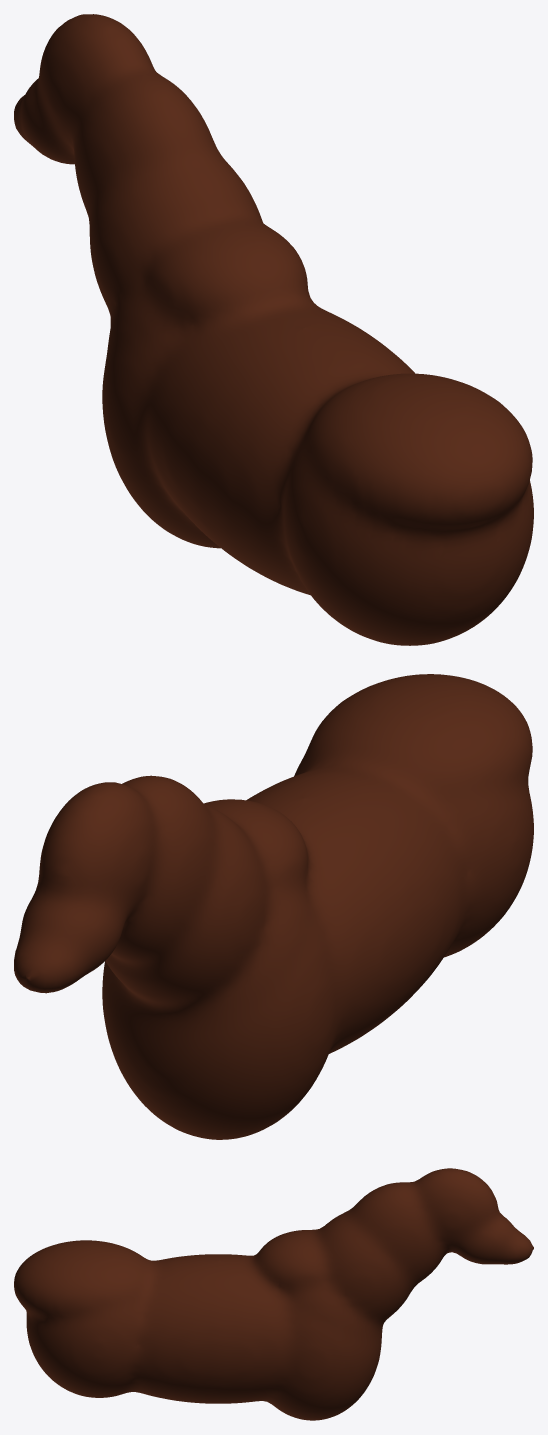
Rendered from village_horse_body.glb.
3 renders of one model, top to bottom at view 1: azimuth 30°, elevation 25°; view 2: azimuth 150°, elevation 25°; view 3: azimuth 270°, elevation 25°, orthographic. The views are drawn at different scales.
Visible parts, largest first — view 1: BayHorseBody; view 2: BayHorseBody; view 3: BayHorseBody.
Part boxes in pixels (x1,y1,x2,y2): BayHorseBody: (14, 14, 533, 645); BayHorseBody: (14, 674, 533, 1139); BayHorseBody: (14, 1168, 533, 1420).
Bounding box in the file's own units: 0.7731 × 1.43 × 2.75.
